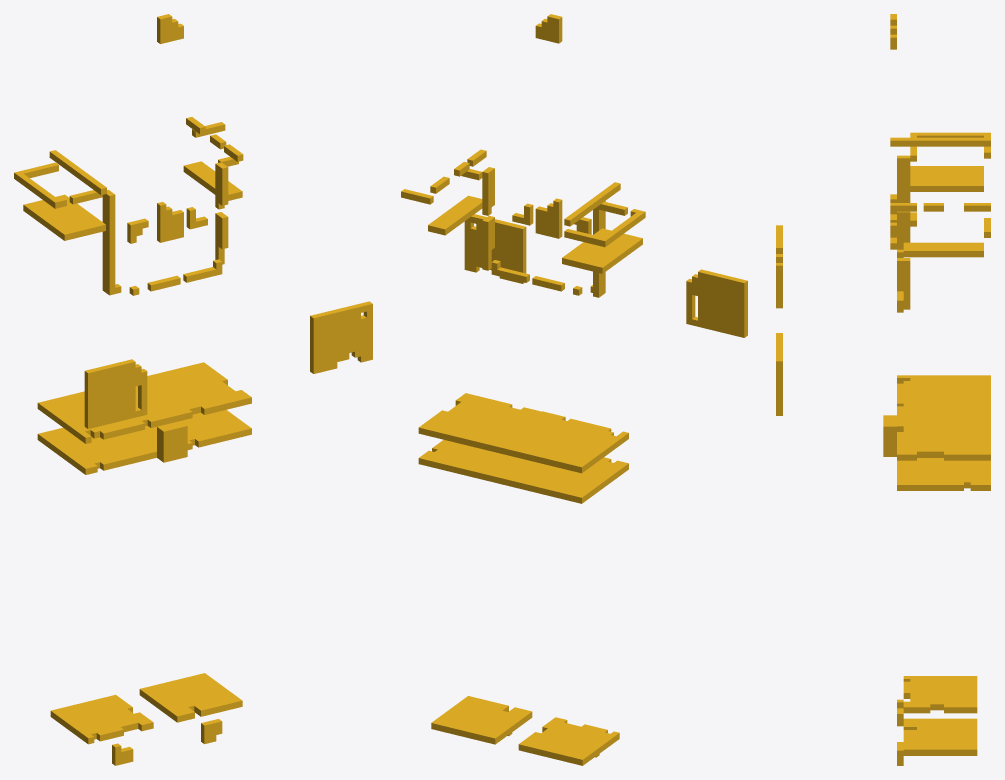
Rendered from Anubis_25-7.obj.
The picture shows the model from 3 angles, left to right: view 1: azimuth 30°, elevation 25°; view 2: azimuth 150°, elevation 25°; view 3: azimuth 270°, elevation 25°; orthographic projection. The views are drawn at different scales.
Size of the model in its own units: 4.8 by 11.9 by 3.2.
Materials: 1 (1 with a texture image).
